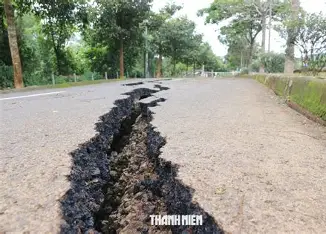ROAD_CRACK: (60, 75, 225, 234)
